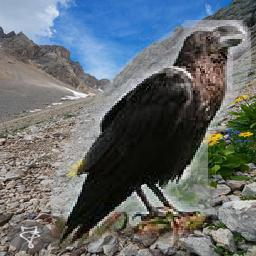Crow: (51, 21, 251, 248)
